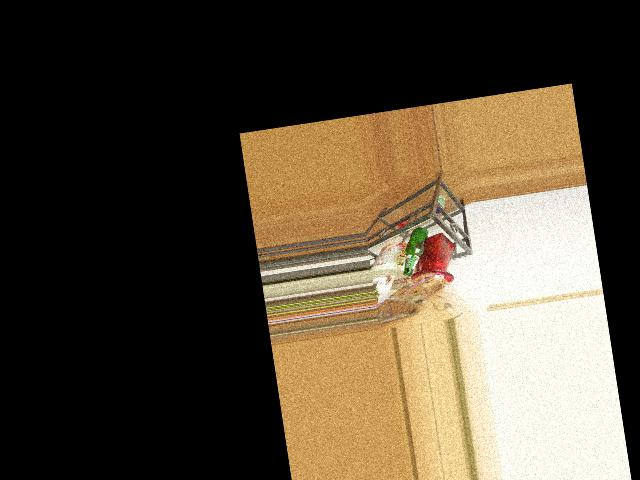beer: (397, 226, 433, 276)
